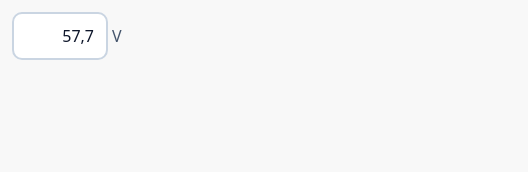
ChampNombre (pavé numérique) › texte invalide en quittant le champ : conservé, avec un message (jamais effacé en silence)
Replace the text in the field named "Amplitude" with "5x": (60, 36) [12,12,108,60]
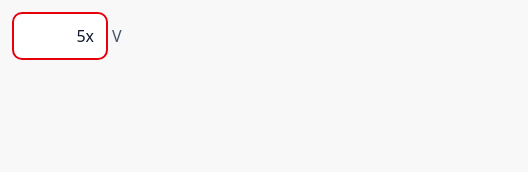
Leave the field named "Amplitude", box [12,12,108,60]
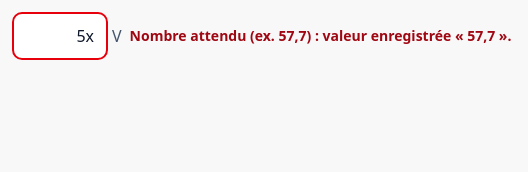
Check: the message reads "Nombre attendu (ex. 57,7) : valeur enregistrée « 57,7 ».", box [130,26,512,46]
Replace the text in the field named "Amplitude" with "58": (60, 36) [12,12,108,60]
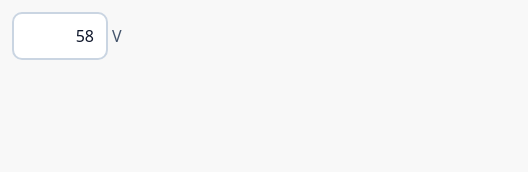
Check: the message "Nombre attendu (ex. 57,7) : valeur enregistrée « 57,7 »." is gone
